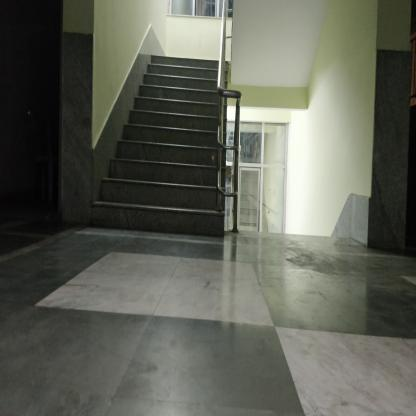stairs: (151, 55, 215, 239)
